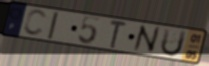5: (77, 14, 104, 46)
C: (22, 8, 49, 37)
I: (46, 11, 60, 41)
N: (132, 24, 162, 54)
T: (108, 19, 128, 50)
U: (159, 27, 188, 58)
